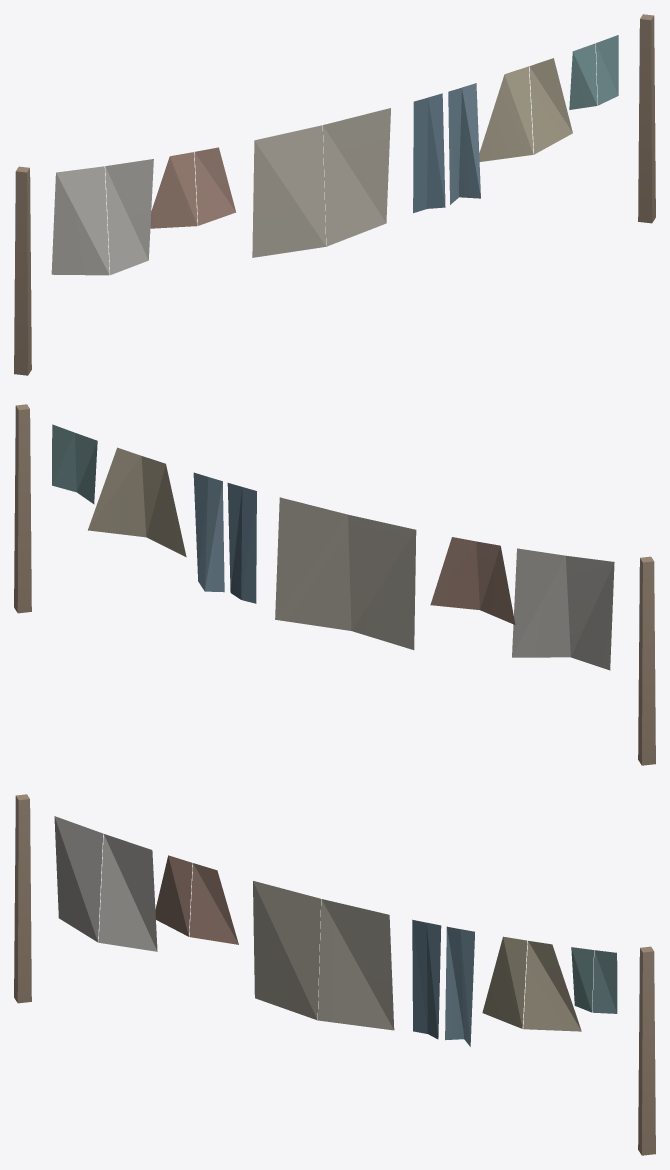
The model's file is laundry.lod2.glb.
3 views of the same model, one above another, from view 1: azimuth 30°, elevation 25°; view 2: azimuth 150°, elevation 25°; view 3: azimuth 330°, elevation 25° (orthographic).
Bounding box in the file's own units: 3.95 × 1.19 × 0.1167.
